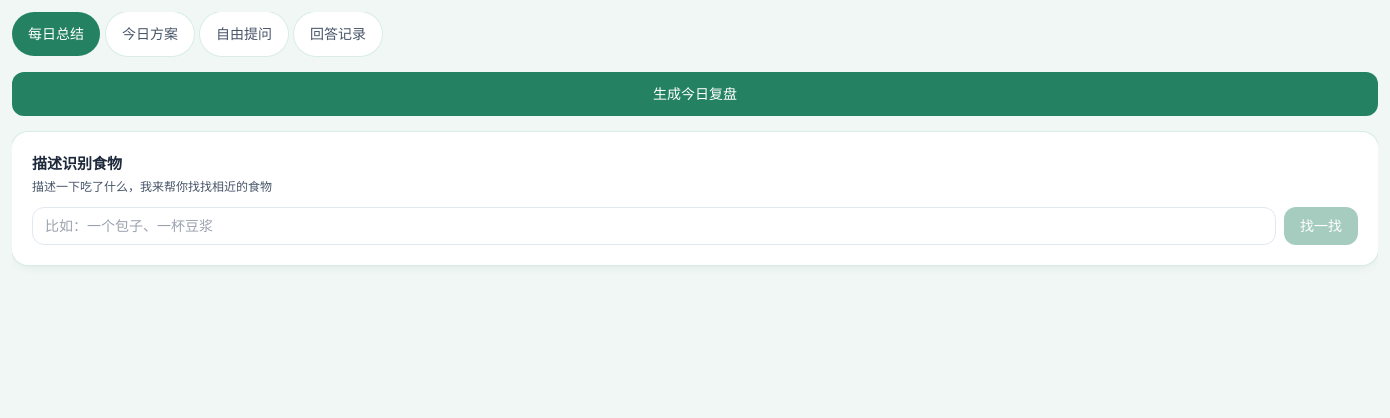
Scenario: AiPage 食物识别候选热量随单位切换 › 切回 kcal：候选显示 kcal
In the field with placeholder "比如：一个包子、一杯豆浆": (654, 226) [32, 206, 1276, 244], type "米饭"
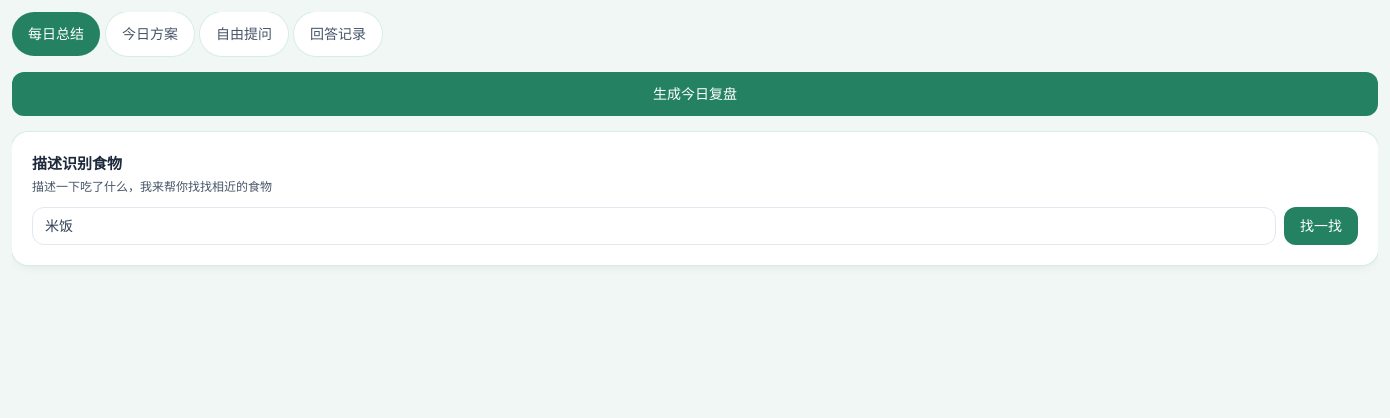
Click the button "找一找": (1321, 226) [1284, 206, 1358, 244]
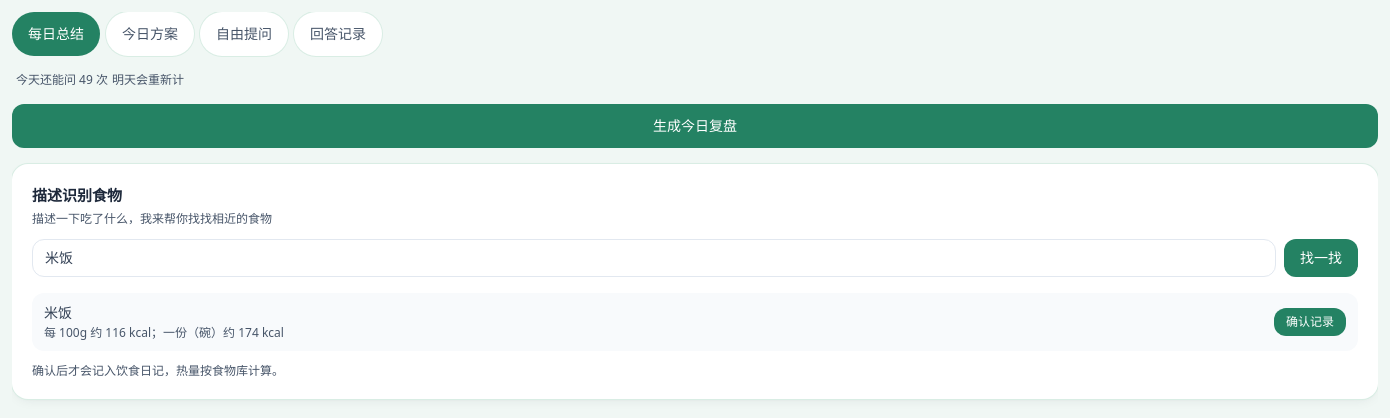
Check: the text "米饭" is shown, box [44, 302, 72, 322]
Check: the text "每 100g 约 116 kcal" is shown, box [44, 324, 284, 340]
Check: the text "一份（碗）约 174 kcal" is shown, box [151, 324, 284, 340]
